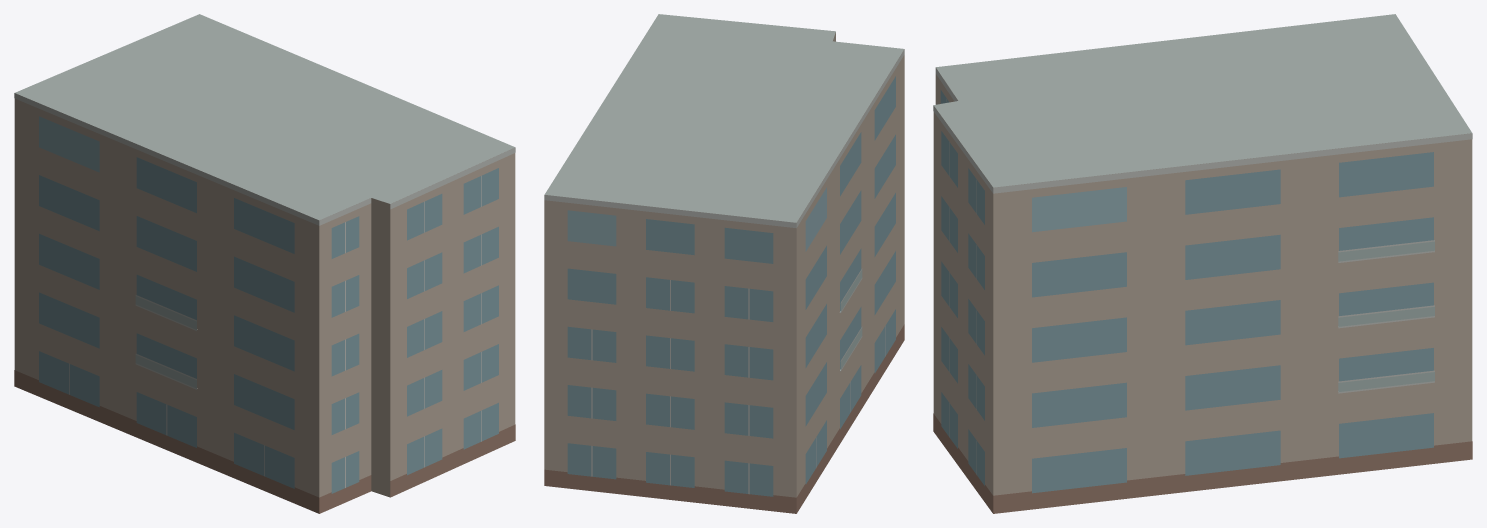
Rendered from survey-upis-32687767.glb.
3 views of the same model, side by side, from view 1: azimuth 30°, elevation 25°; view 2: azimuth 150°, elevation 25°; view 3: azimuth 270°, elevation 25° (orthographic). The views are drawn at different scales.
Parts seen in each view (by area): view 1: survey-upis-32687767.tmp; view 2: survey-upis-32687767.tmp; view 3: survey-upis-32687767.tmp.
Part boxes in pixels (x1,y1,x2,y2): survey-upis-32687767.tmp: (14, 14, 515, 513); survey-upis-32687767.tmp: (544, 14, 904, 513); survey-upis-32687767.tmp: (933, 14, 1472, 513).
Bounding box in the file's own units: 14.96 × 13.1 × 19.62.
